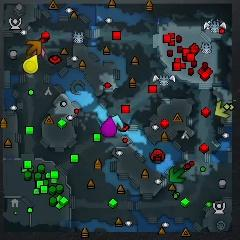p3: (100, 117, 117, 138)
p4: (24, 55, 39, 73)
x1: (33, 48, 46, 58)
x2: (215, 100, 230, 118)
x3: (111, 115, 124, 129)
x4: (169, 168, 184, 182)
x5: (24, 40, 43, 56)
